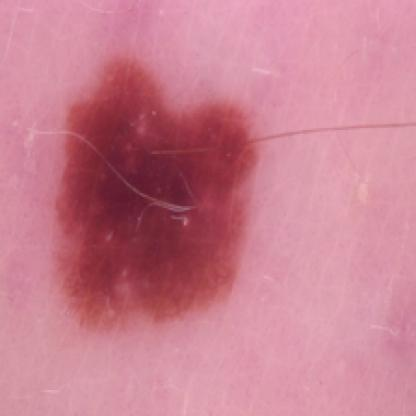benign: (56, 56, 258, 332)
